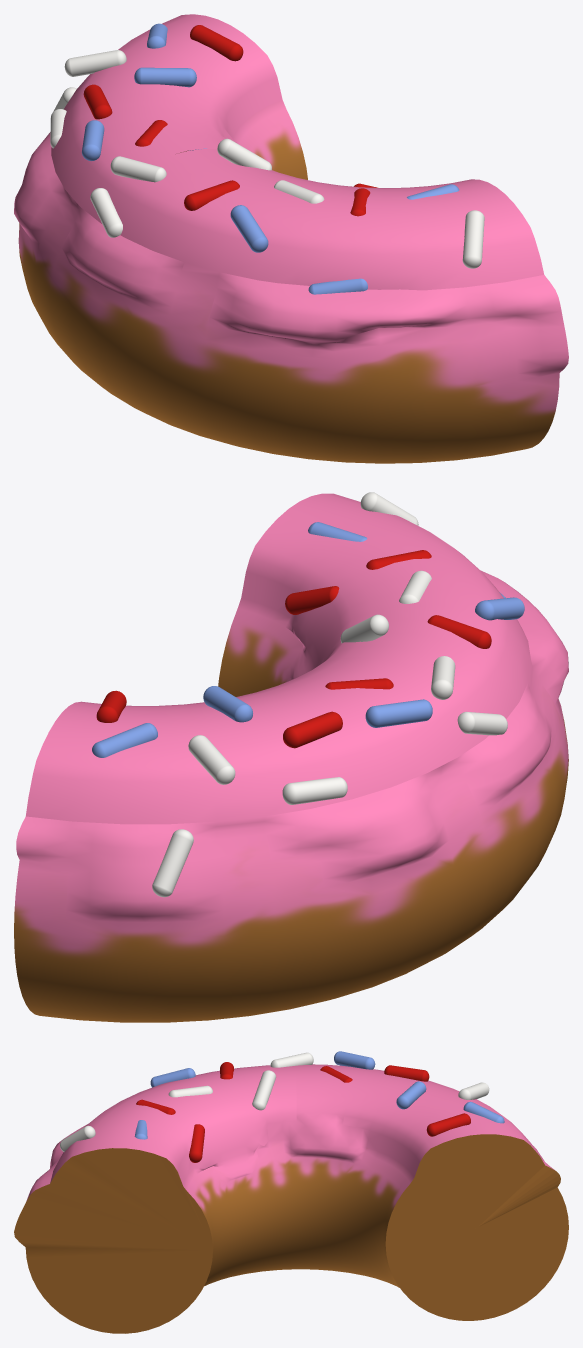
File: ciambella_rosa.fbx
The picture shows the model from 3 angles, top to bottom: view 1: azimuth 30°, elevation 25°; view 2: azimuth 150°, elevation 25°; view 3: azimuth 270°, elevation 25°; orthographic projection. The views are drawn at different scales.
Parts seen in each view (by area): view 1: pTorus1; view 2: pTorus1; view 3: pTorus1.
Part boxes in pixels (x1=…): pTorus1: x1=14, y1=14, x2=568, y2=463; pTorus1: x1=14, y1=492, x2=568, y2=1022; pTorus1: x1=14, y1=1051, x2=568, y2=1333.
Bounding box in the file's own units: 108 × 87.98 × 221.
